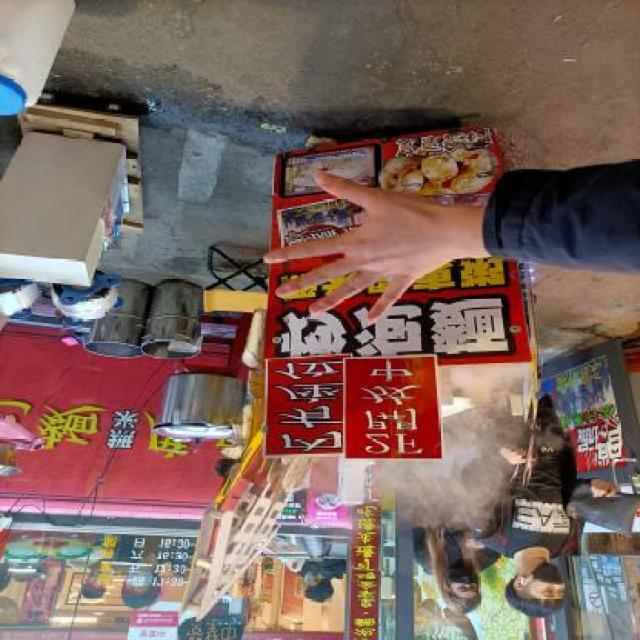bare_hand: (257, 160, 483, 332)
